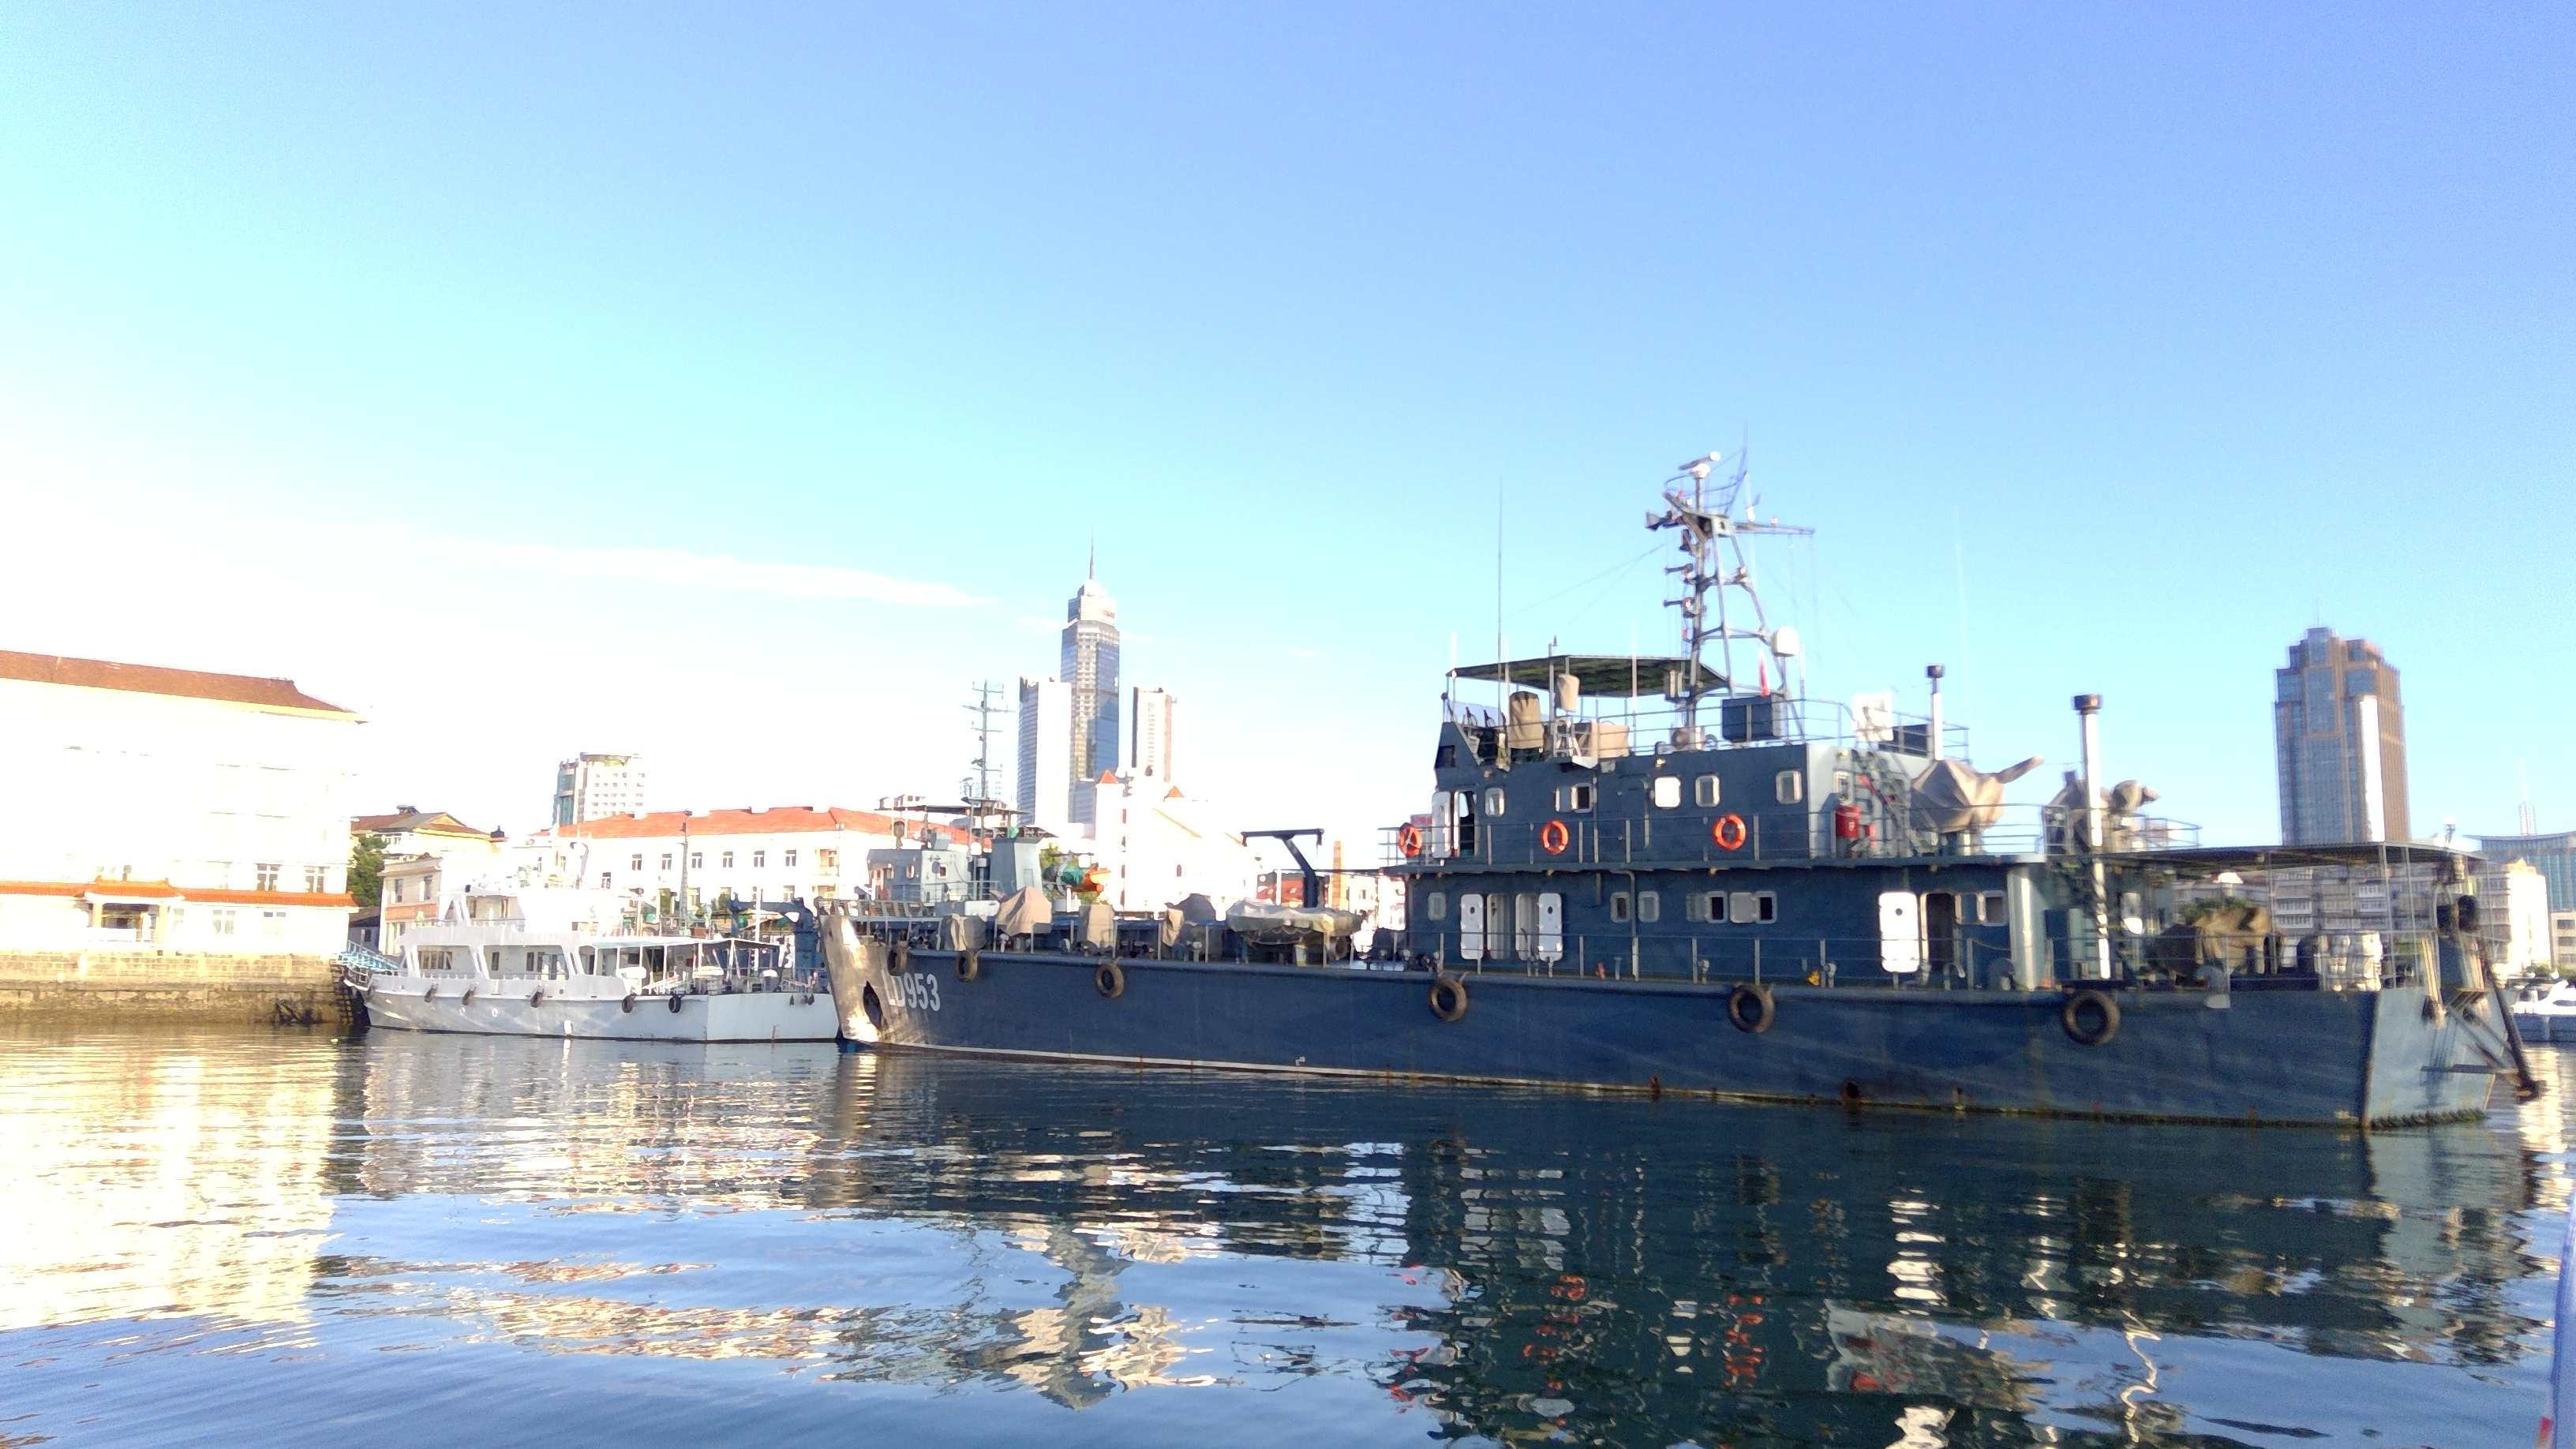ship: (823, 536, 2530, 1127), (301, 876, 847, 1067)
